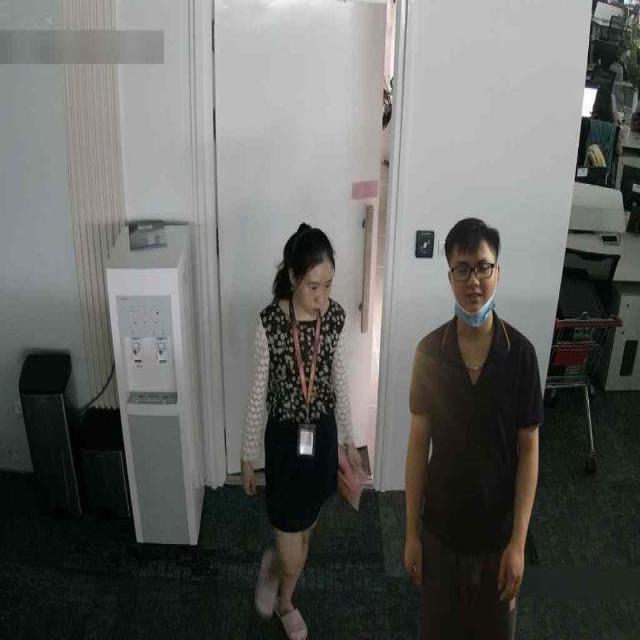bare_hand: (482, 527, 540, 609), (394, 512, 435, 604), (229, 453, 271, 507)
